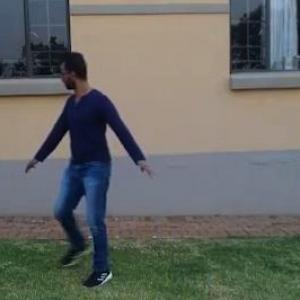land: (20, 44, 154, 276)
